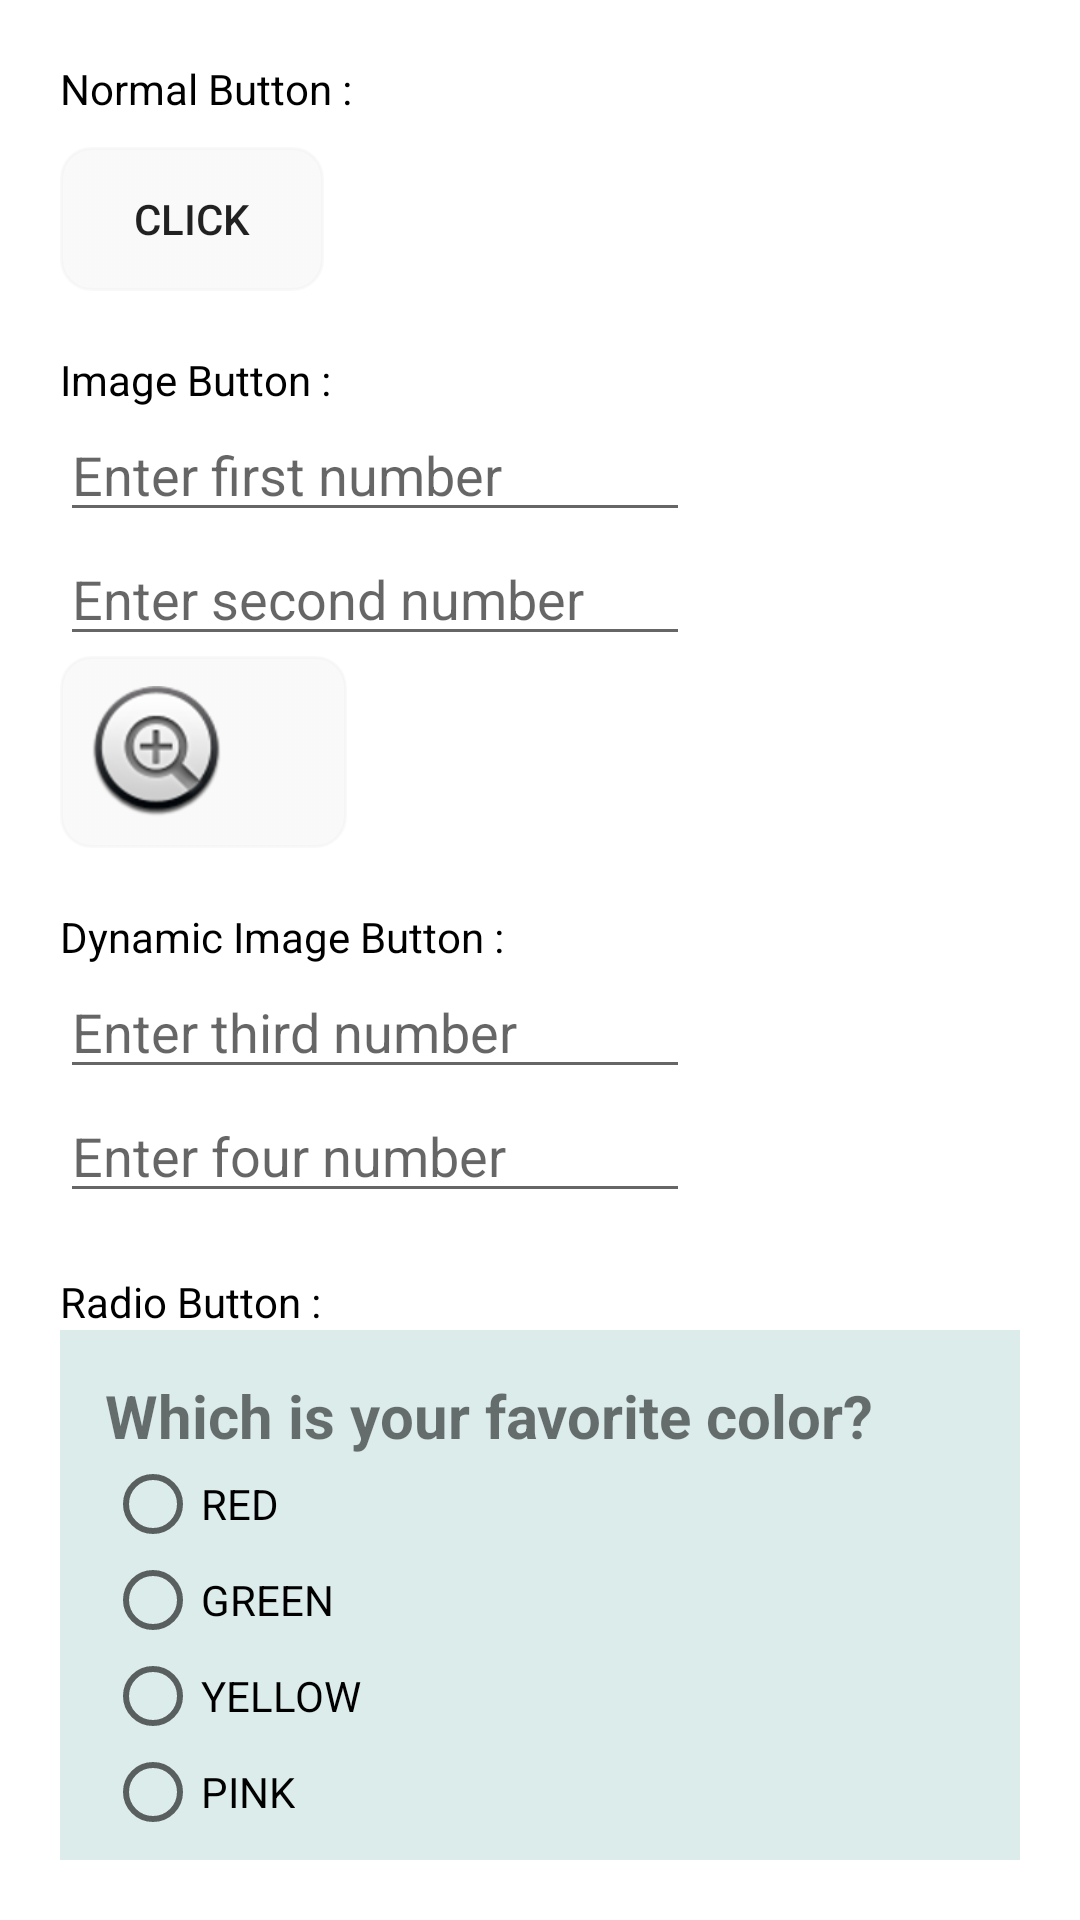

Icons on this 1080 x 1920 Android screen, each with the point to tap as (x=x, y=y):
plus: (x=156, y=750)
